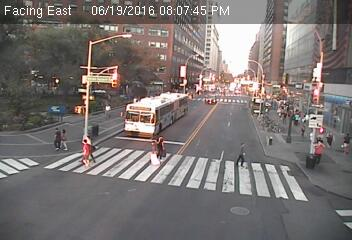neg: (47, 30, 68, 58), (6, 118, 27, 146), (190, 165, 210, 192), (62, 181, 82, 208), (165, 83, 184, 109), (289, 204, 307, 228), (208, 107, 225, 130), (128, 91, 145, 114), (197, 34, 214, 56), (323, 23, 338, 43), (125, 183, 139, 203), (19, 68, 33, 87), (149, 40, 163, 58), (165, 8, 178, 26), (300, 51, 313, 68), (248, 11, 261, 28), (238, 204, 250, 220), (268, 42, 279, 57), (101, 50, 112, 64), (133, 10, 144, 24), (321, 183, 331, 196), (79, 28, 88, 40), (201, 11, 210, 22)
pos: (73, 134, 98, 166), (147, 130, 171, 161), (43, 120, 65, 150), (232, 139, 254, 168), (309, 139, 330, 167), (55, 126, 73, 149), (338, 129, 351, 153), (323, 125, 336, 144), (100, 100, 113, 117), (296, 123, 308, 139)
